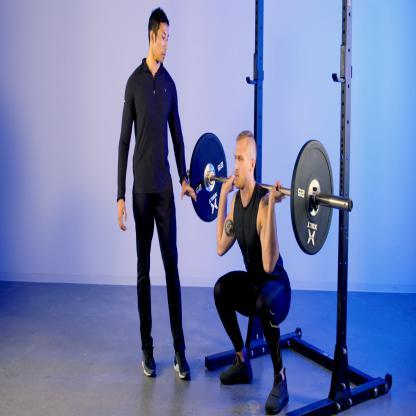Barbell: (345, 193, 357, 218)
